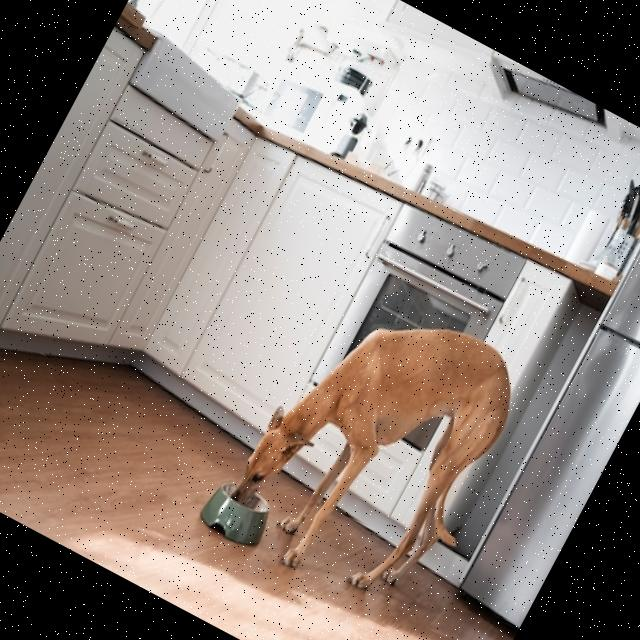Dog: (214, 270, 546, 630)
